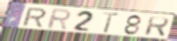2: (71, 10, 96, 33)
8: (124, 14, 142, 35)
R: (46, 8, 72, 31), (144, 16, 171, 38), (21, 7, 48, 28)
T: (101, 11, 121, 34)
